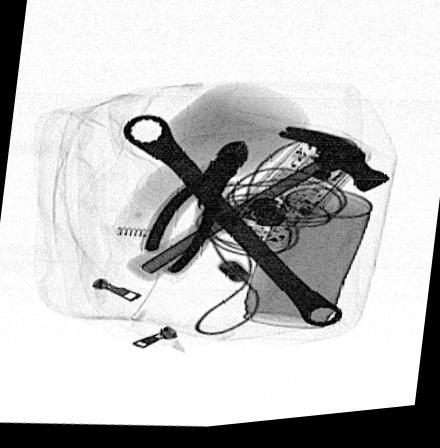Hammer: (124, 132, 390, 285)
Pliers: (137, 143, 245, 278)
Wrench: (122, 116, 345, 333)
